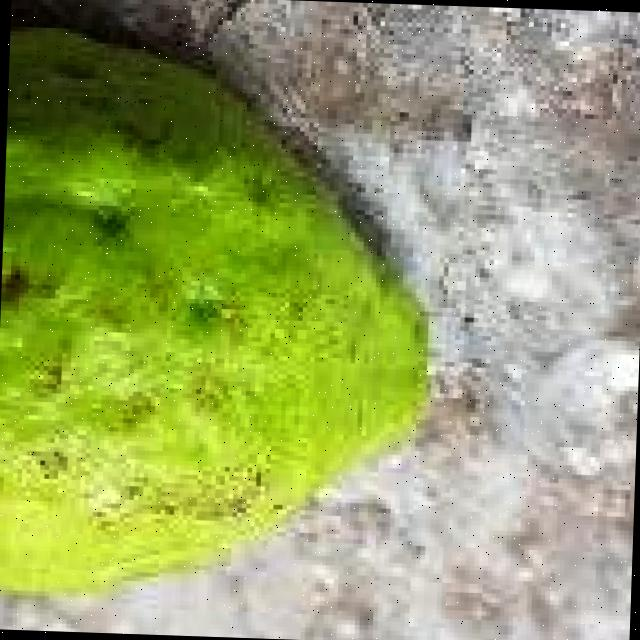Good_Guava 5-7 days: (0, 29, 425, 591)
